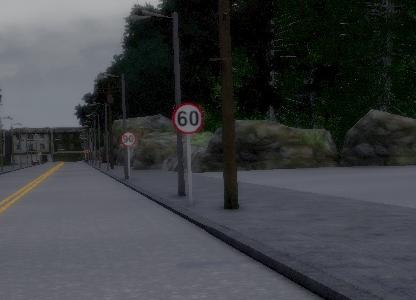Speed_60: (171, 101, 205, 137)
